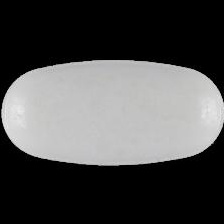60505-5306: (0, 0, 224, 224)
